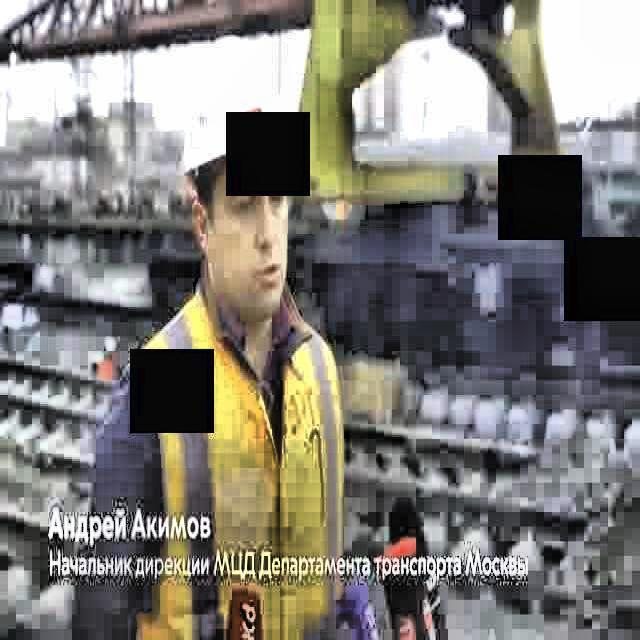safety_helmet: (184, 50, 295, 178)
safety_jacket: (121, 278, 348, 640)
